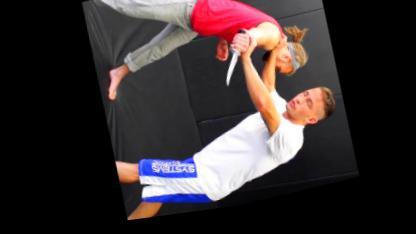knife: (210, 30, 256, 96)
